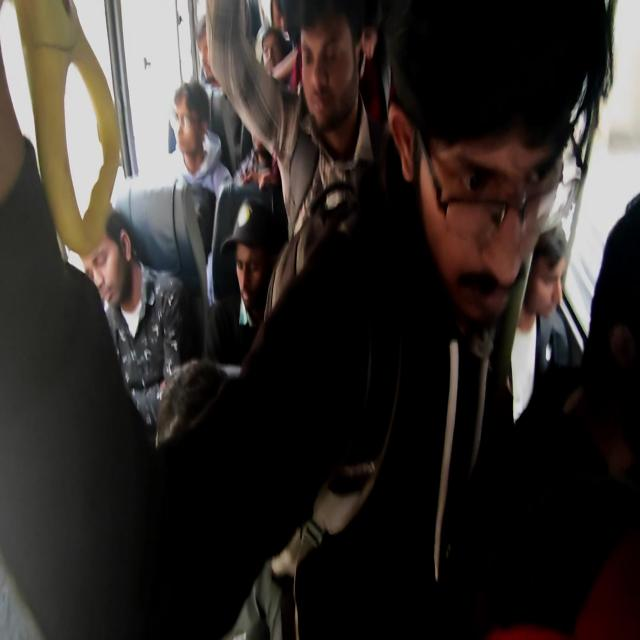person: (412, 27, 578, 329), (157, 373, 260, 543), (585, 241, 640, 481), (297, 9, 376, 130), (85, 211, 143, 354), (532, 230, 575, 389), (230, 213, 276, 296), (246, 116, 289, 193), (195, 15, 236, 93), (172, 94, 209, 171), (260, 28, 302, 90), (267, 0, 292, 36)
